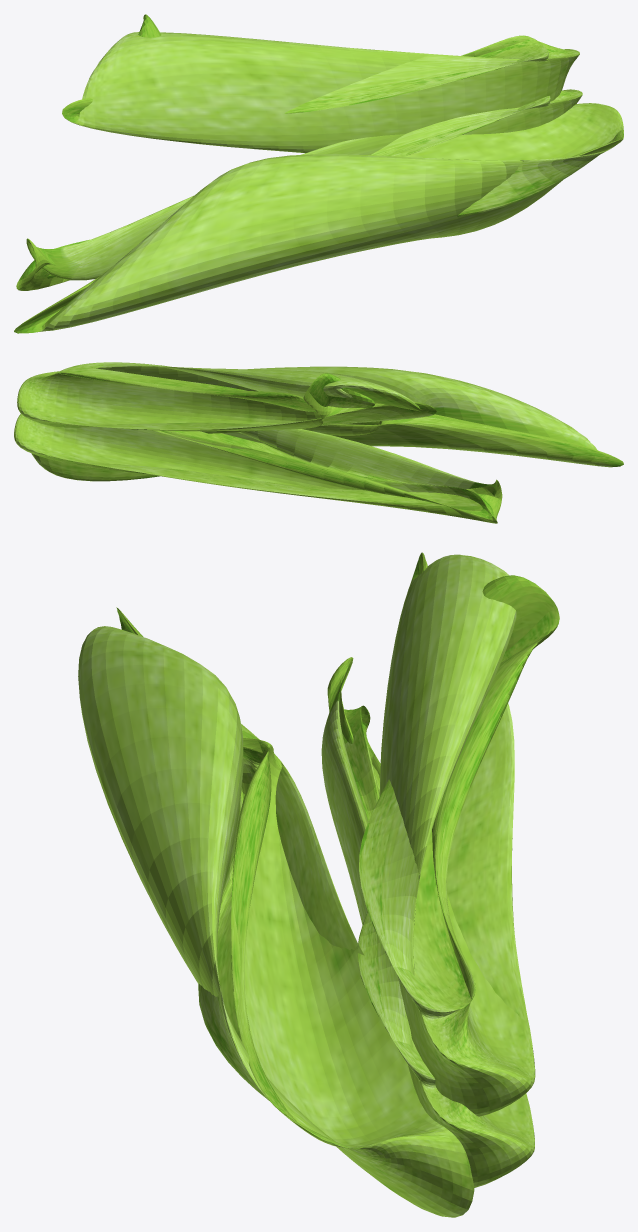
Rendered from Glony.obj.
The picture shows the model from 3 angles, top to bottom: view 1: azimuth 30°, elevation 25°; view 2: azimuth 150°, elevation 25°; view 3: azimuth 270°, elevation 25°; orthographic projection. The views are drawn at different scales.
Visible parts, largest first — view 1: Cube.002_Cube.003, Cube.001_Cube.002, Cube; view 2: Cube, Cube.001_Cube.002, Cube.002_Cube.003; view 3: Cube.002_Cube.003, Cube.001_Cube.002, Cube.
Boxes of the visible parts, x1=… form: Cube.002_Cube.003: x1=14, y1=103, x2=623, y2=333; Cube.001_Cube.002: x1=62, y1=14, x2=579, y2=153; Cube: x1=16, y1=89, x2=582, y2=290; Cube: x1=14, y1=414, x2=502, y2=523; Cube.001_Cube.002: x1=17, y1=362, x2=436, y2=433; Cube.002_Cube.003: x1=31, y1=366, x2=623, y2=481; Cube.002_Cube.003: x1=78, y1=607, x2=474, y2=1217; Cube.001_Cube.002: x1=359, y1=552, x2=559, y2=1116; Cube: x1=321, y1=657, x2=534, y2=1187.
Bounding box in the file's own units: 5.44 × 1.87 × 2.17.
Materials: 2 (2 with a texture image).
